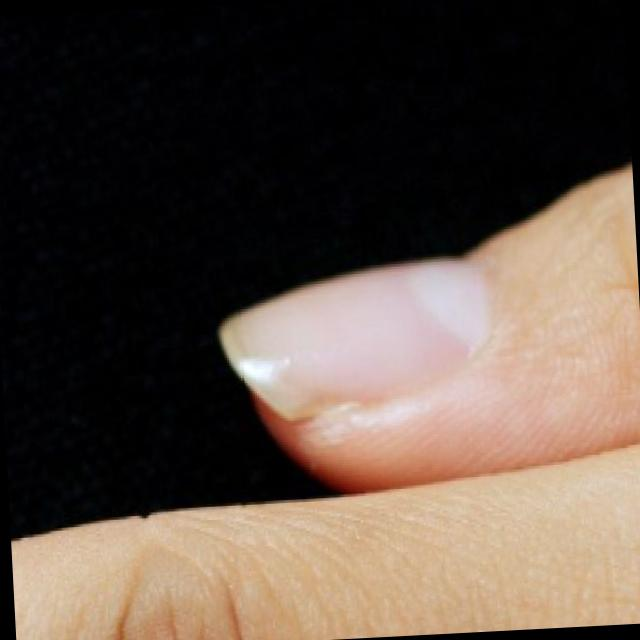Nail: (220, 258, 487, 418)
